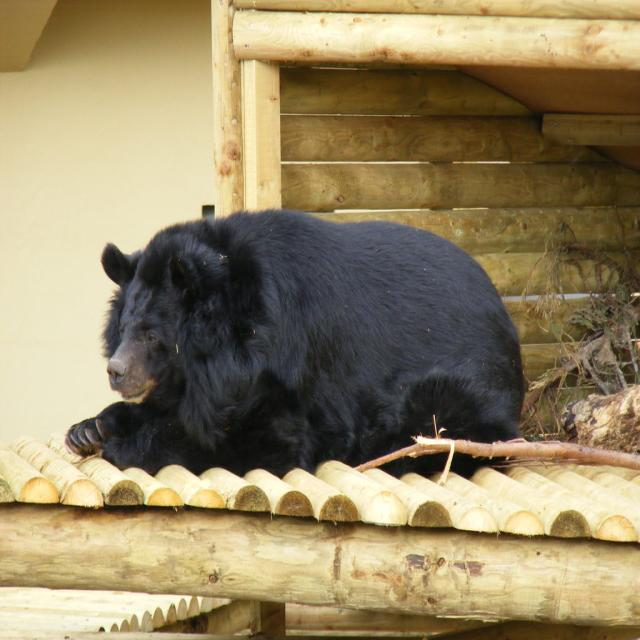Buffalo: (62, 205, 528, 479)
